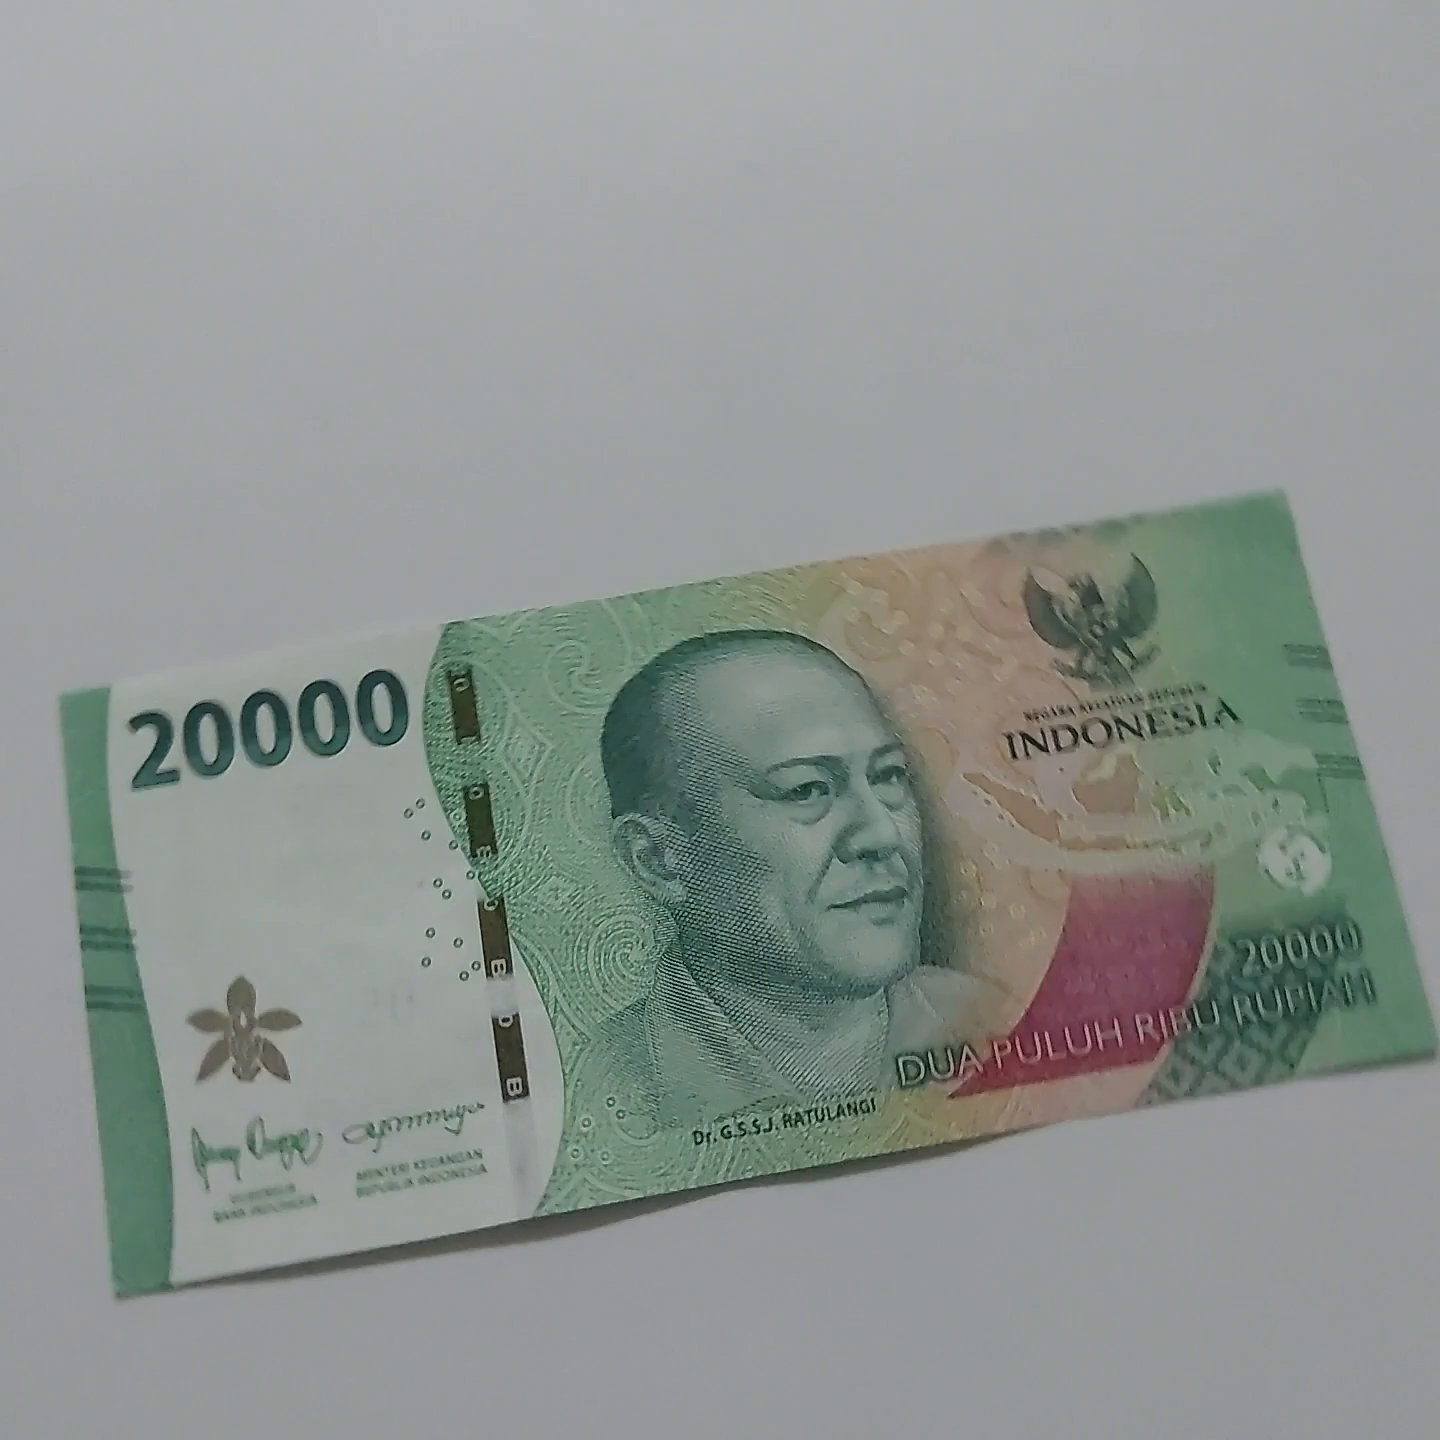20k: (37, 495, 1440, 1286)
